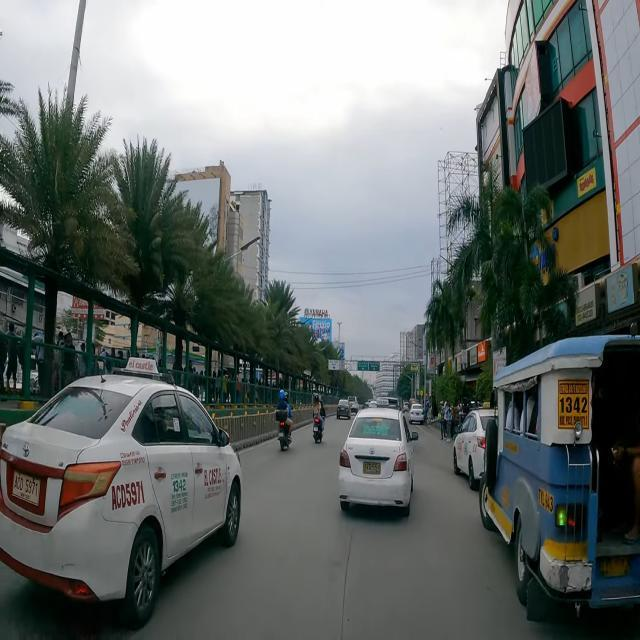car: (0, 354, 242, 632), (338, 398, 415, 522), (452, 402, 498, 492), (336, 398, 352, 422), (408, 404, 424, 426)
jeepney: (480, 330, 640, 640)
motorcycle: (276, 390, 294, 452), (312, 392, 325, 446)
